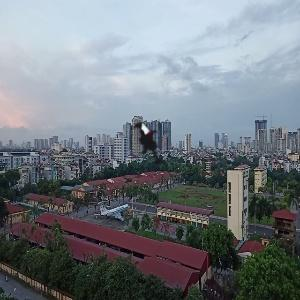drone: (115, 103, 196, 184)
